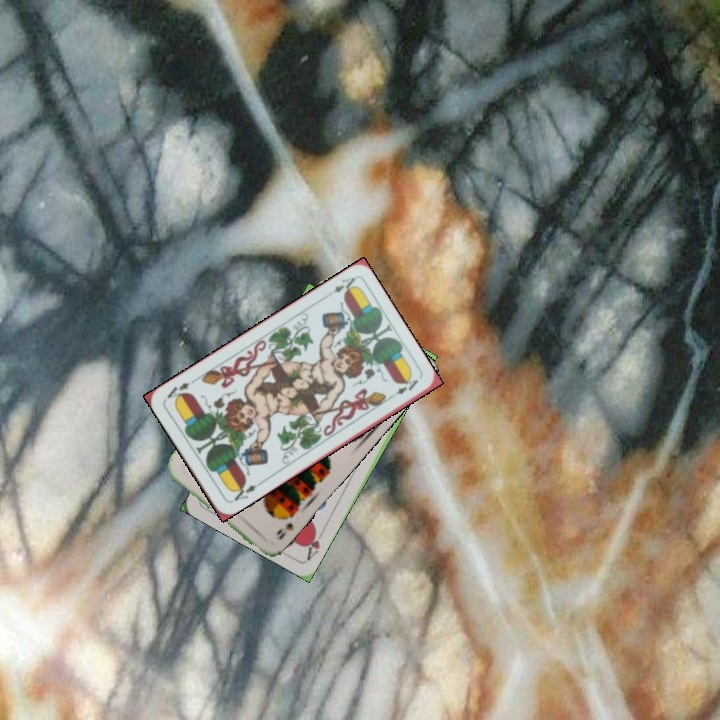EA: (228, 478, 264, 504), (329, 273, 359, 297)
HA: (302, 524, 327, 564)
S9: (273, 509, 297, 542)
